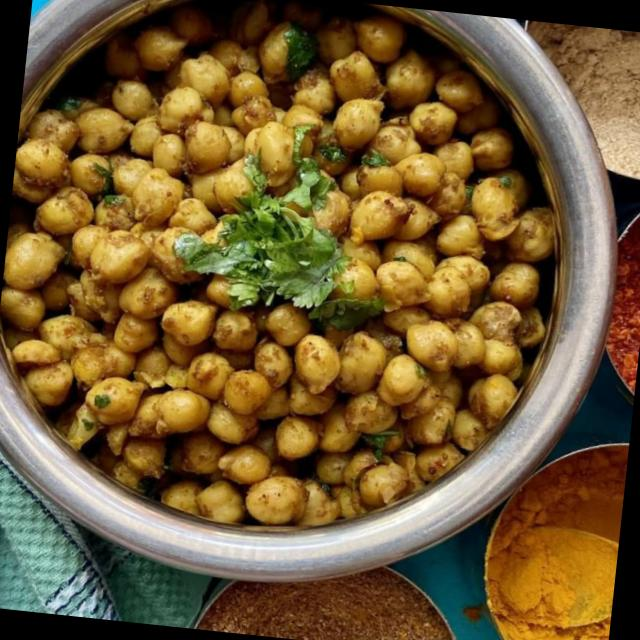Chole: (0, 0, 580, 555)
